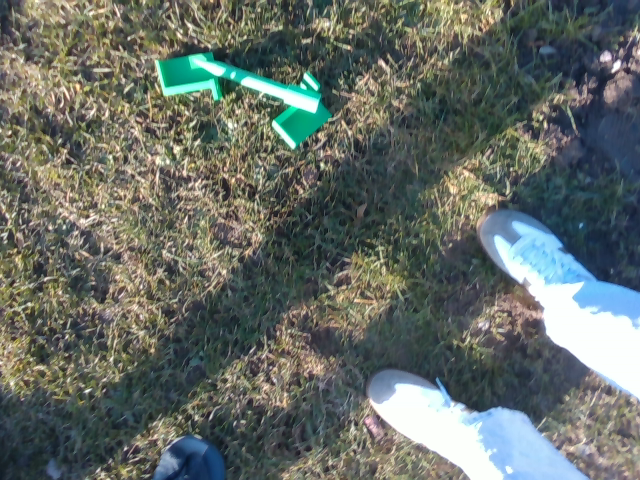Probe: (193, 56, 324, 116)
